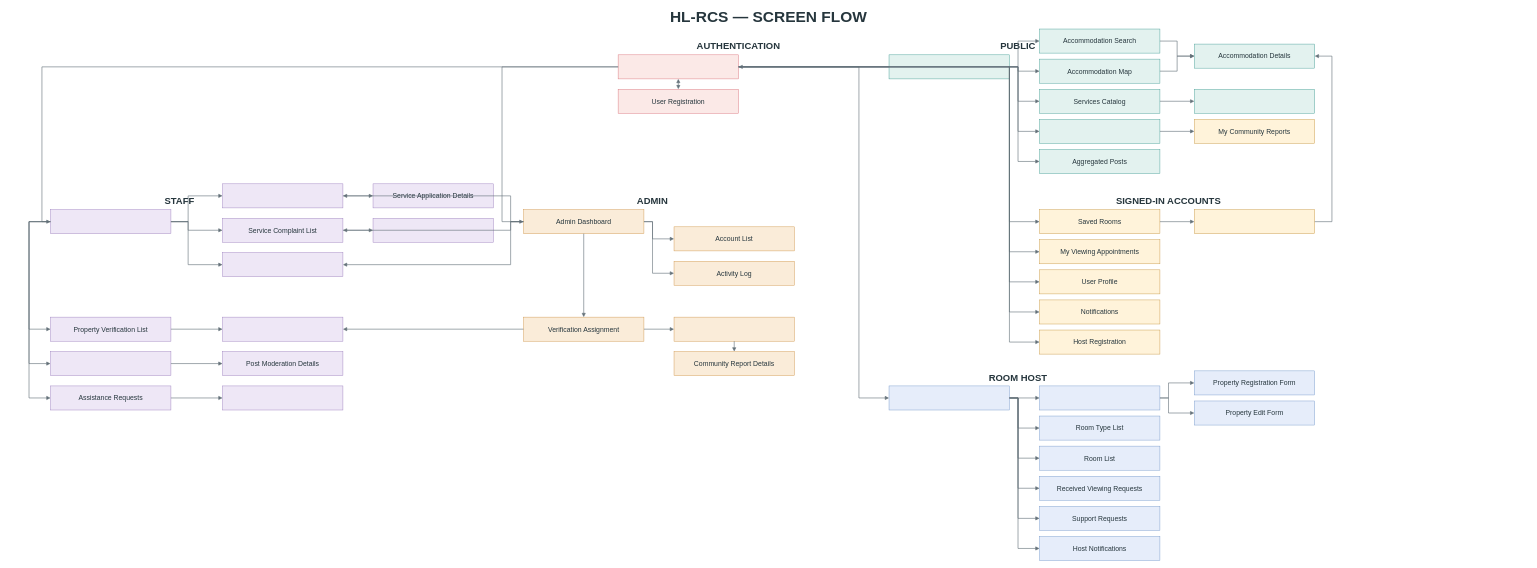
Some shapes in this 1537 by 568 pixel diagram are drawn without their labels. Here are the shapes that lost their labels. From the top down, the centre of each, then its label:
point 678,66: User Login
point 949,66: Home
point 1254,101: Service Details
point 1099,131: Community
point 282,195: Service Application List
point 110,221: Staff Dashboard
point 433,230: Service Complaint Details
point 1254,221: Room Comparison
point 282,264: Aggregated-Post Management
point 282,329: Property Verification Details
point 734,329: Community Reports
point 110,363: Community Moderation List
point 282,397: Assistance Request Details
point 949,397: Host Dashboard
point 1099,397: Property Workspace
